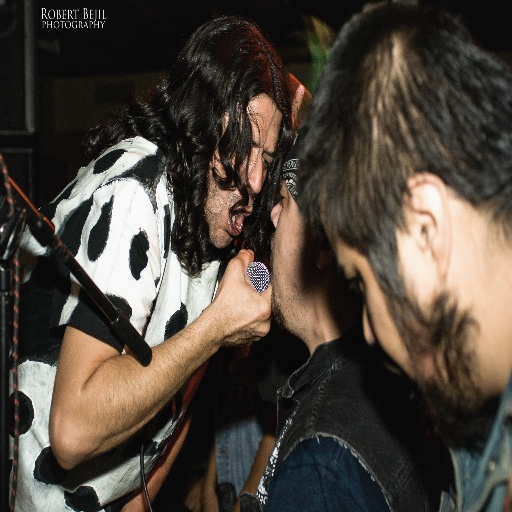hand: (213, 241, 273, 378), (177, 476, 200, 511), (108, 492, 150, 511), (291, 83, 304, 124), (199, 492, 221, 511)
